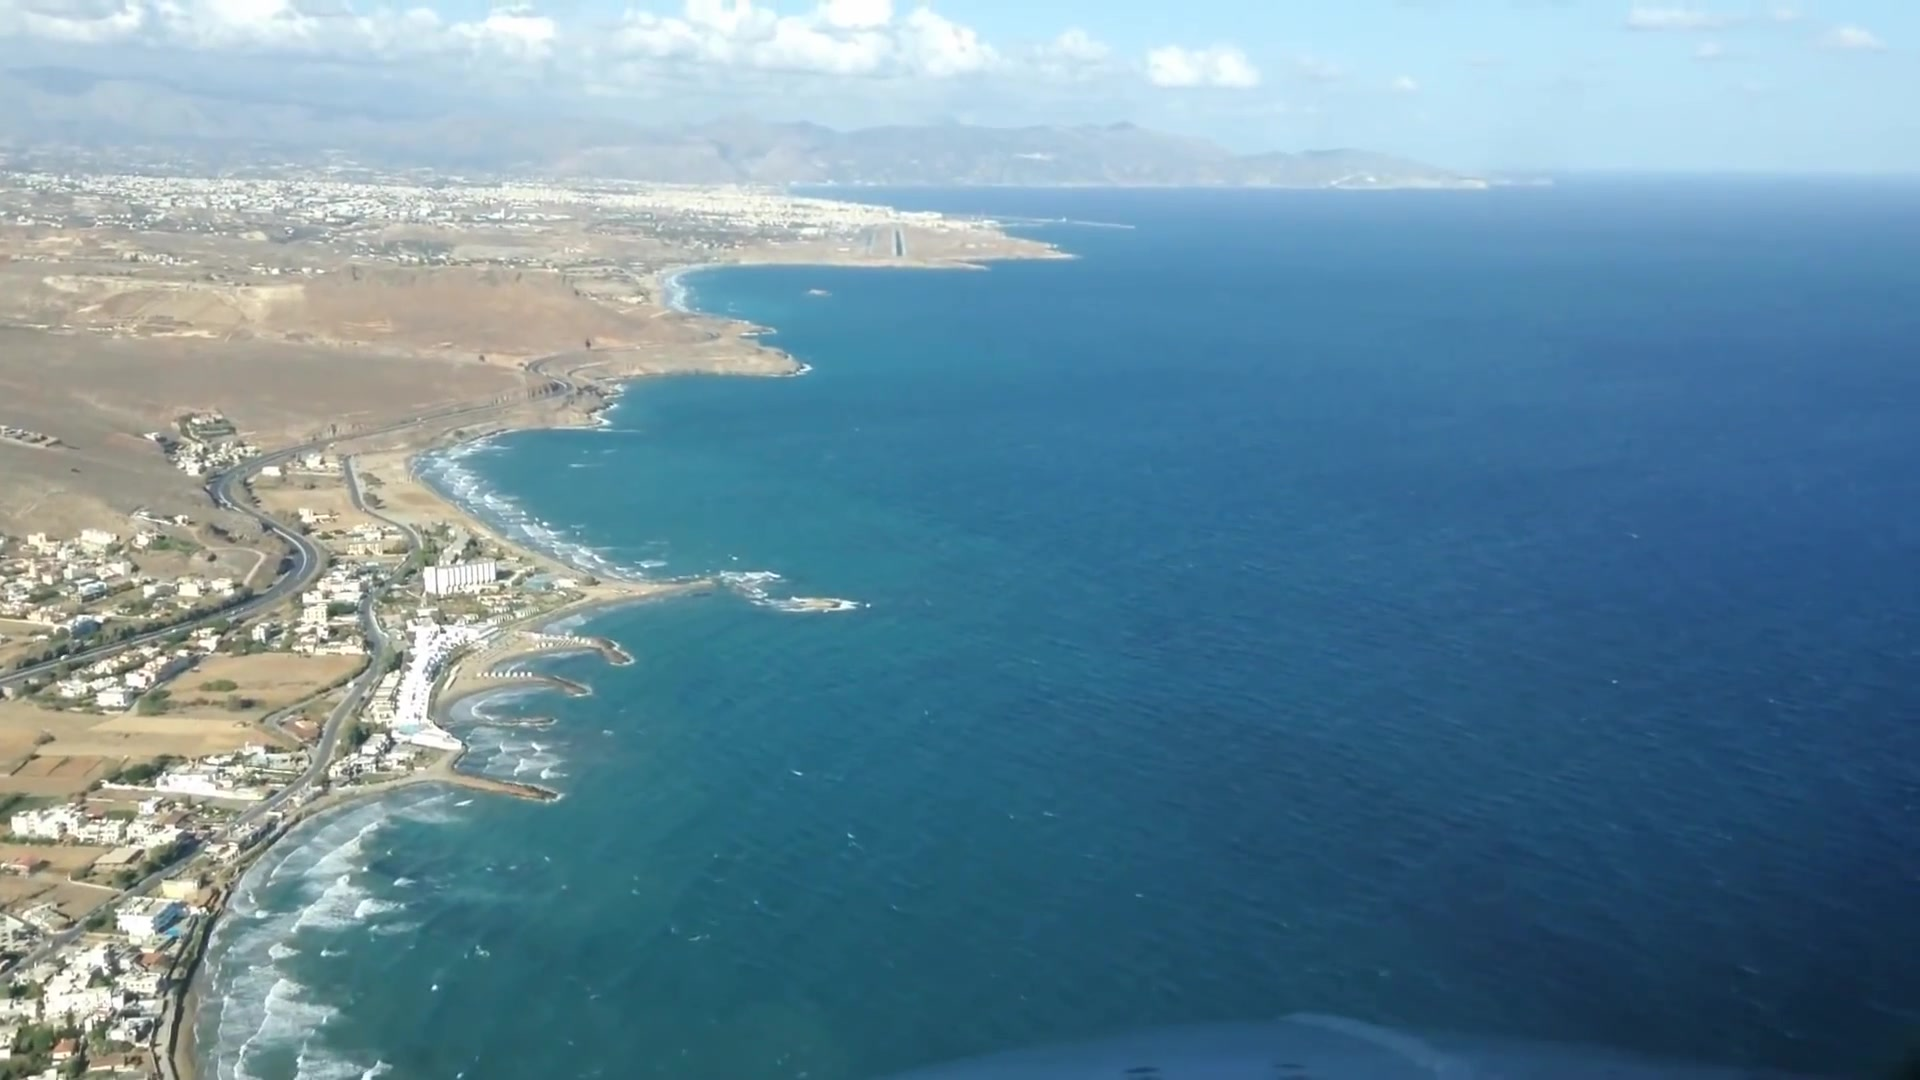runway: (887, 225, 909, 256)
